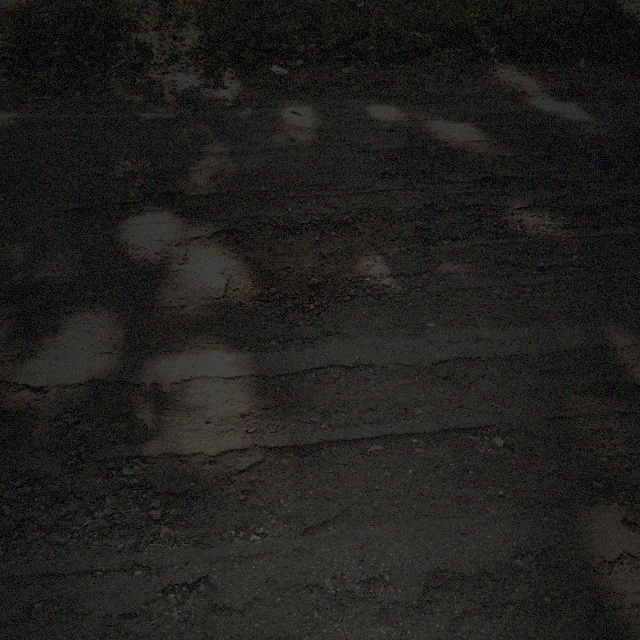pothole: (172, 206, 449, 311)
